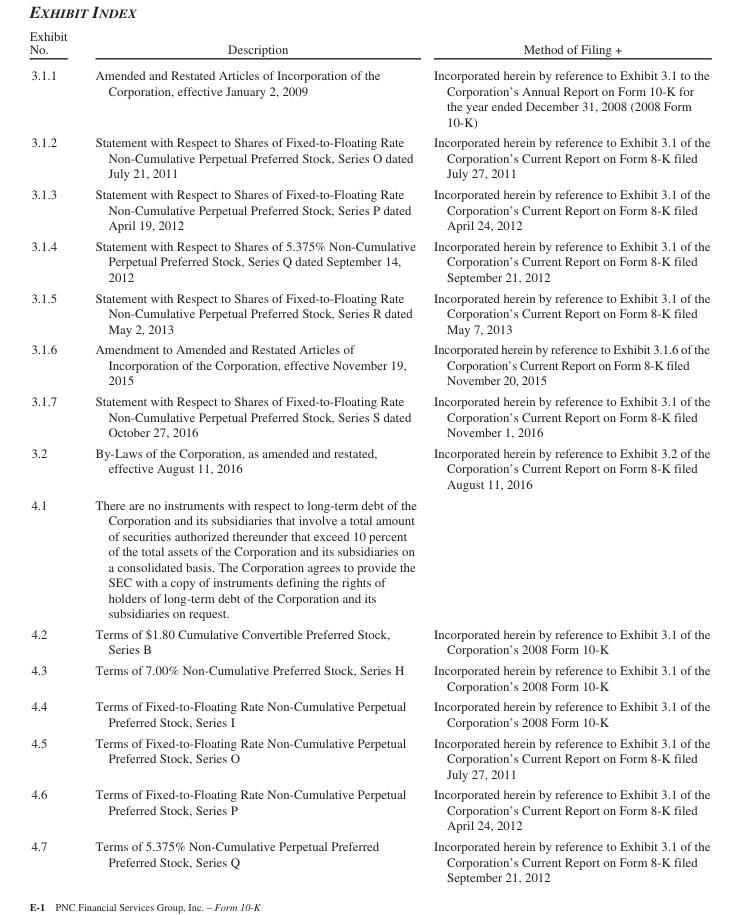table: (28, 28, 709, 883)
table column: (80, 28, 424, 883), (424, 28, 709, 883), (28, 28, 80, 883)
table column header: (28, 28, 709, 61)
table row: (28, 493, 709, 623), (28, 61, 709, 131), (28, 131, 709, 183), (28, 183, 709, 235), (28, 286, 709, 338), (28, 338, 709, 390), (28, 390, 709, 442), (28, 731, 709, 783), (28, 783, 709, 835), (28, 235, 709, 286), (28, 442, 709, 493), (28, 835, 709, 883), (28, 623, 709, 659), (28, 659, 709, 695), (28, 695, 709, 731), (28, 28, 709, 61)
